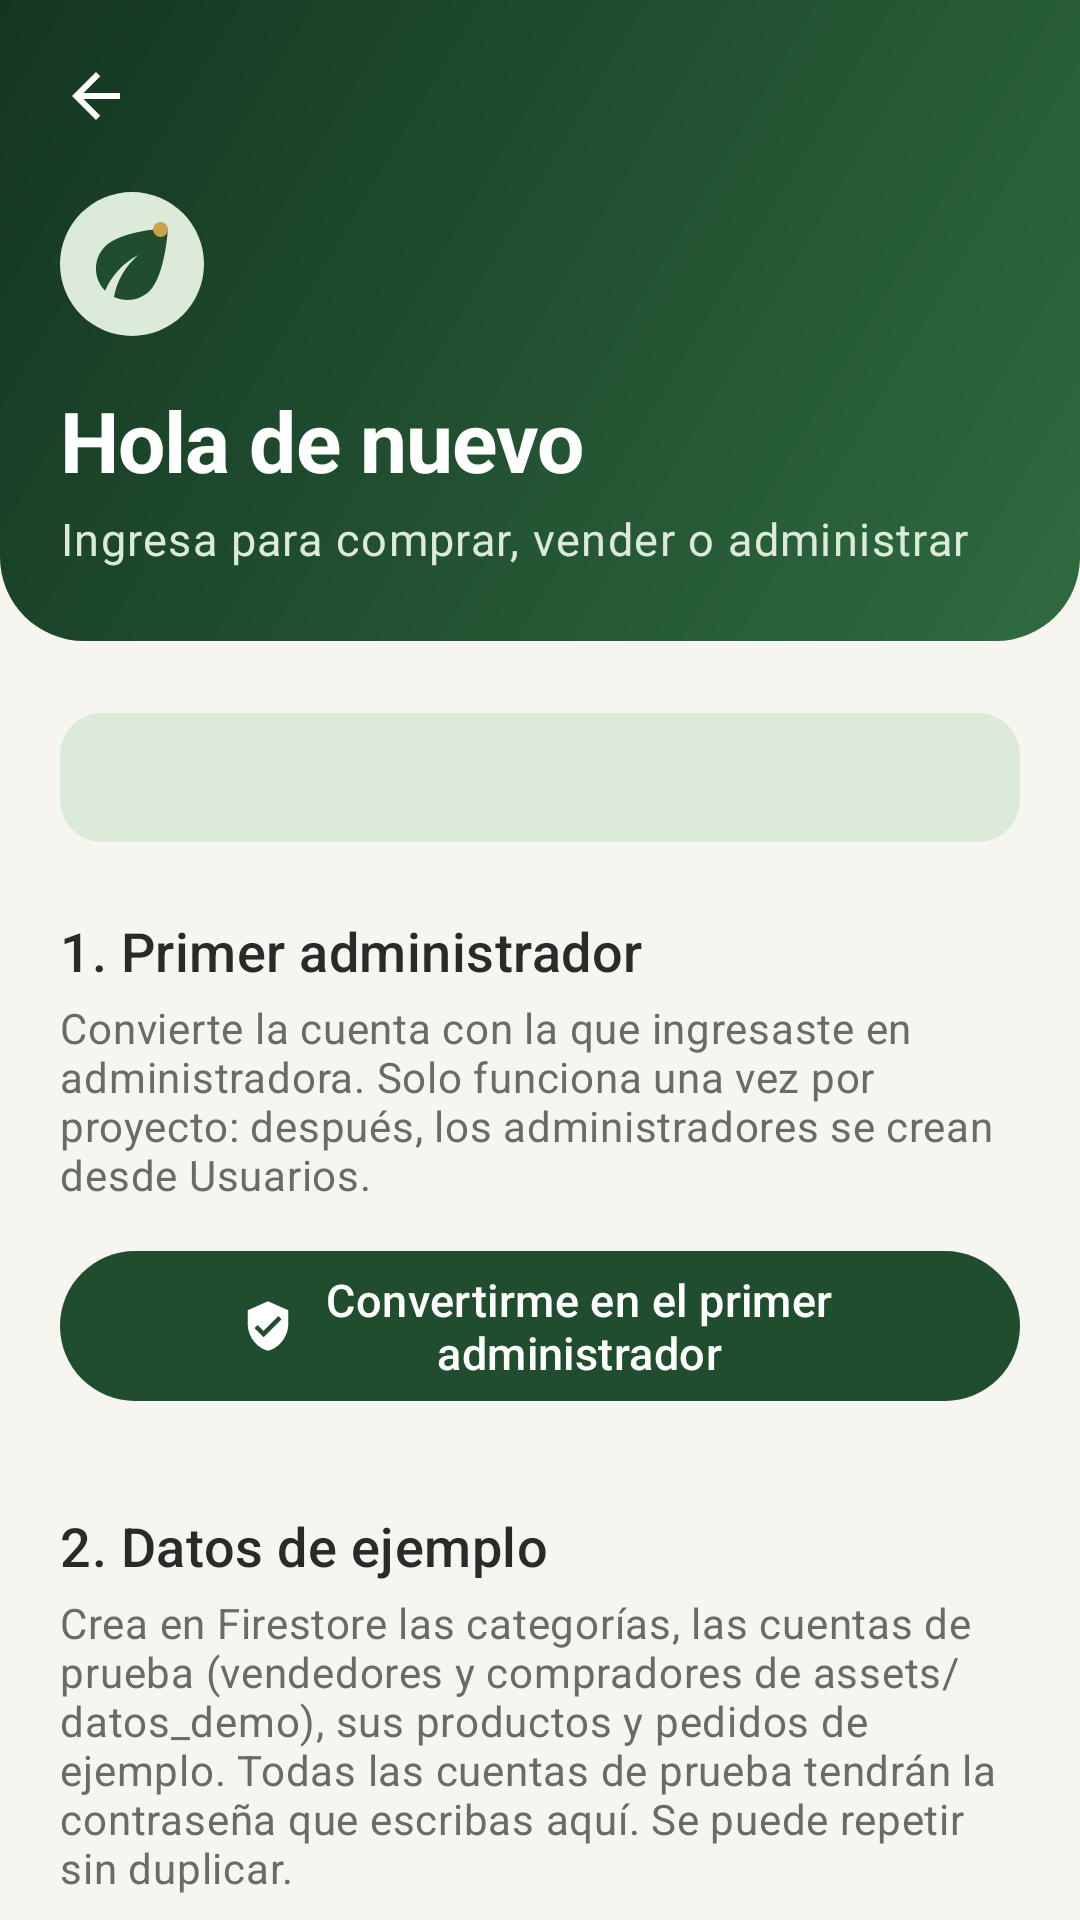

Icons on this 1080 × 1920 Android screen, each with the point to tap as [x,y]:
Volver: [96,96]
